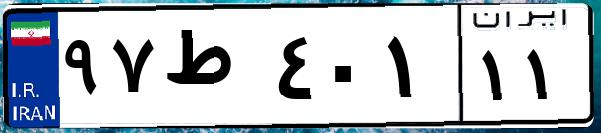0: (330, 28, 385, 110)
1: (385, 28, 445, 110), (475, 38, 525, 113), (525, 38, 570, 115)
4: (270, 28, 330, 110)
7: (110, 28, 158, 98)
9: (57, 26, 110, 100)
ط: (158, 20, 270, 120)
